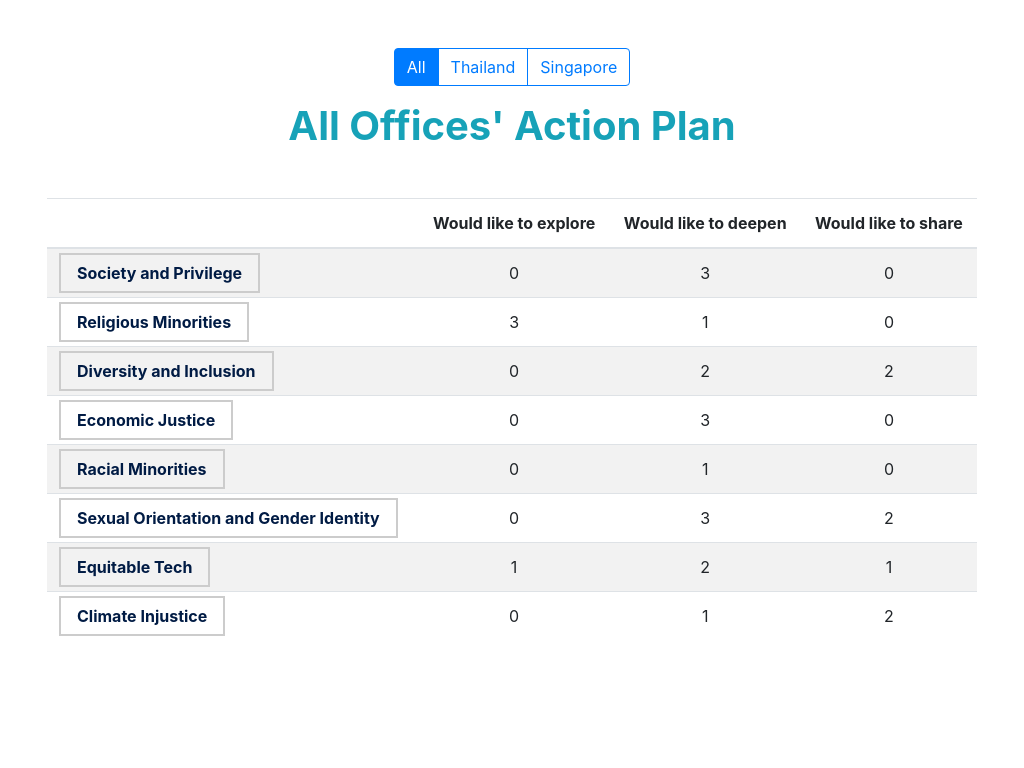
Test case: Wall › renders correct data when filter by office
Click the button "Thailand": point(483, 67) [438,48,528,86]
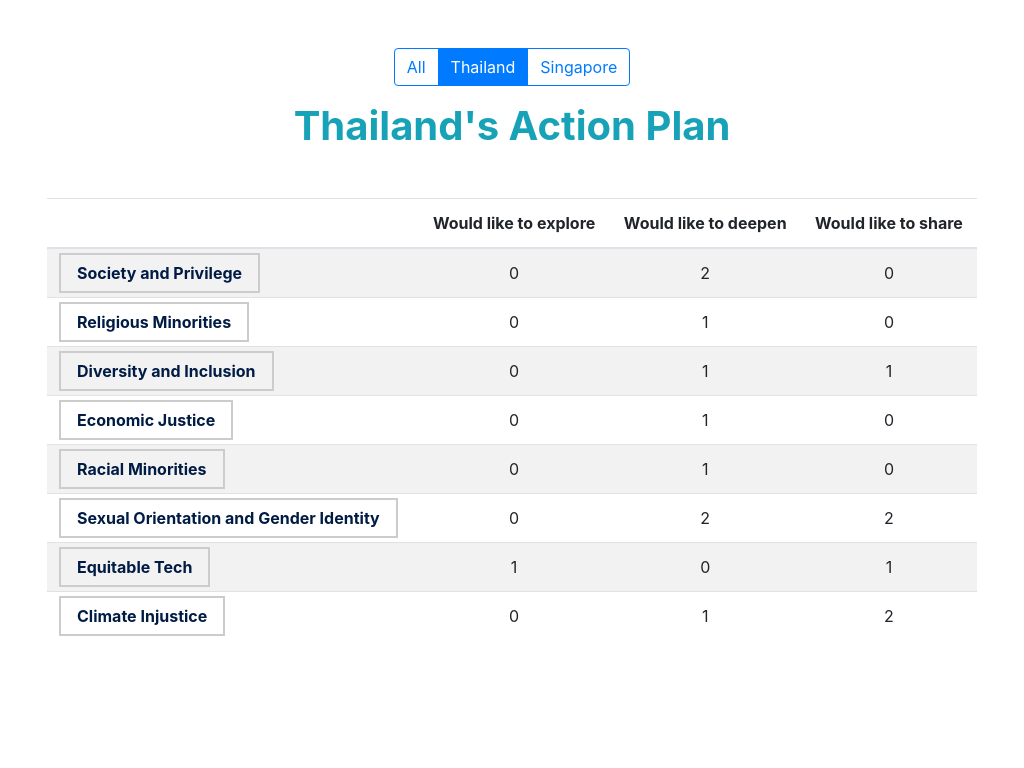
Now the heading "Thailand's Action Plan" is shown, box [294,101,730,150]
Now the cell with test id "Religious Minorities-Would like to explore" reads "0", box [509,312,519,332]
Click the button "All": point(416, 67) [394,48,439,86]
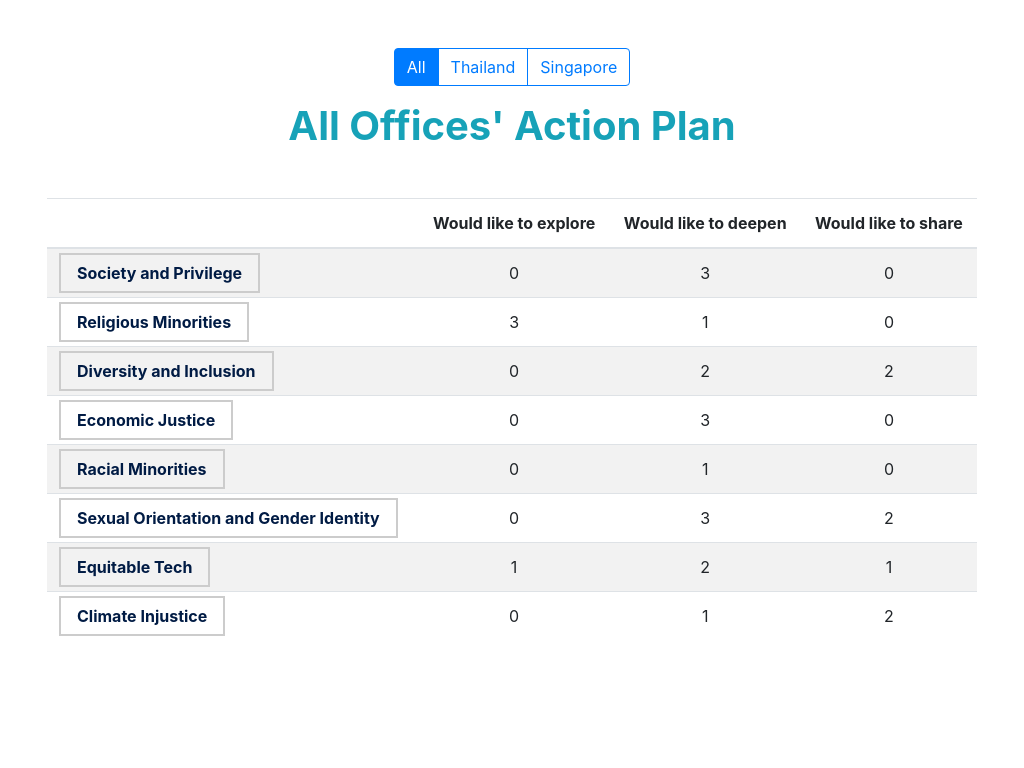
Now the heading "All Offices' Action Plan" is shown, box [288,101,736,150]
Now the cell with test id "Society and Privilege-Would like to deepen" reads "3", box [700,263,710,283]
